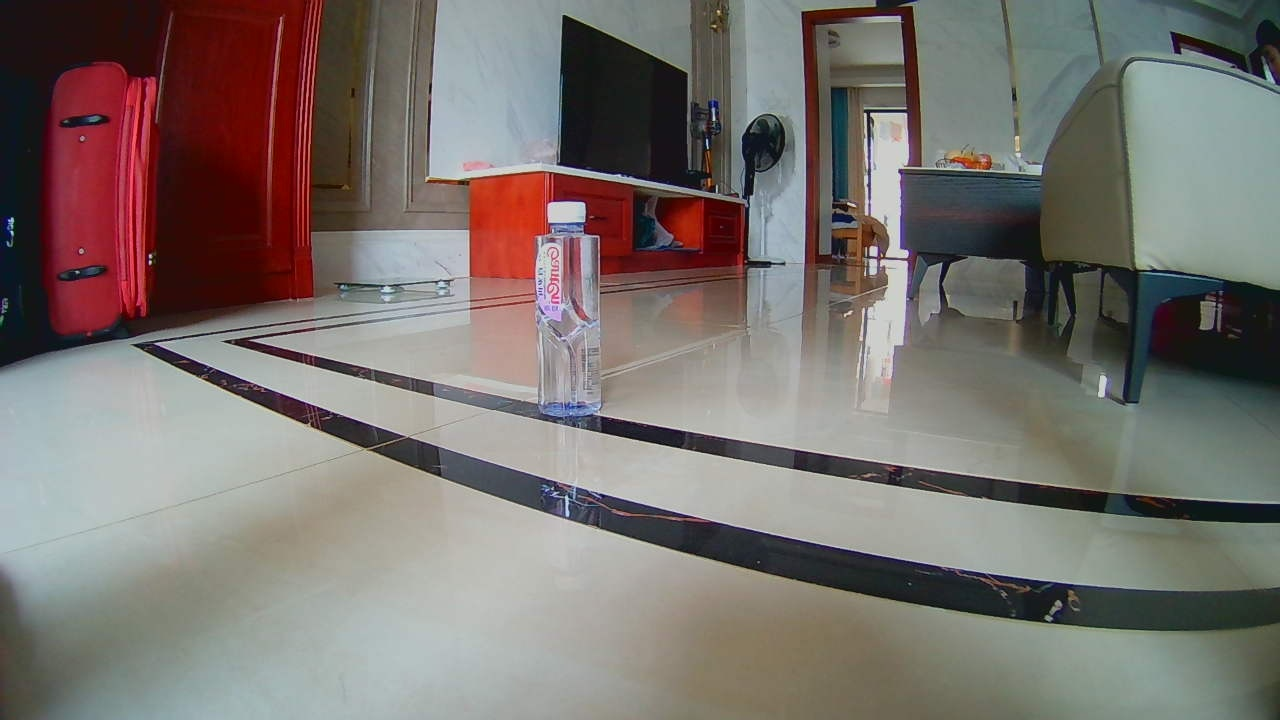water: (533, 205, 602, 421)
